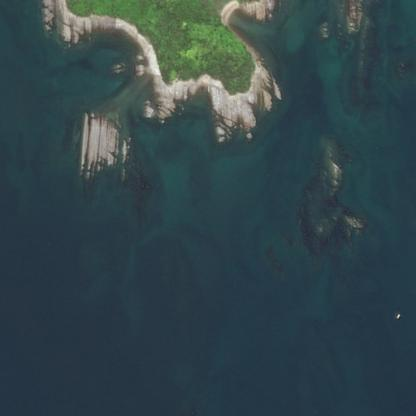ship: (388, 306, 406, 324)
